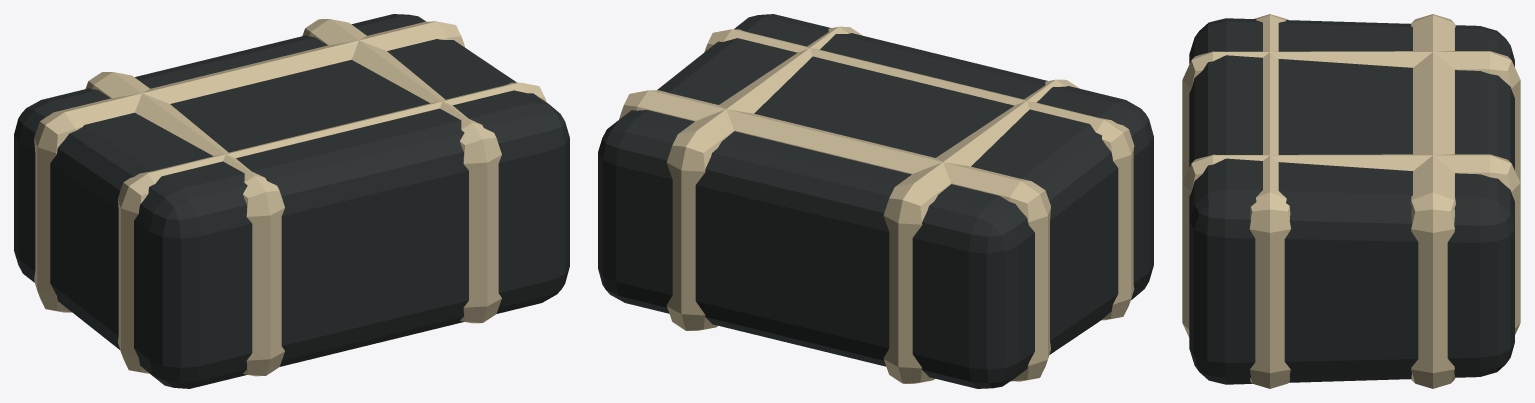
Rendered from package_waterproof.glb.
The picture shows the model from 3 angles, left to right: view 1: azimuth 30°, elevation 25°; view 2: azimuth 150°, elevation 25°; view 3: azimuth 270°, elevation 25°; orthographic projection. The views are drawn at different scales.
Visible parts, largest first — view 1: package_waterproof; view 2: package_waterproof; view 3: package_waterproof.
Part boxes in pixels (x1=…): package_waterproof: x1=14, y1=14, x2=569, y2=388; package_waterproof: x1=598, y1=14, x2=1153, y2=388; package_waterproof: x1=1182, y1=14, x2=1520, y2=388.
Bounding box in the file's own units: 0.472 × 0.212 × 0.332.
